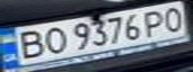3: (87, 16, 112, 47)
6: (121, 11, 148, 42)
7: (106, 12, 127, 44)
9: (69, 20, 93, 52)
B: (9, 27, 48, 61)
O: (157, 3, 190, 34), (36, 25, 69, 55)
P: (139, 7, 172, 37)
